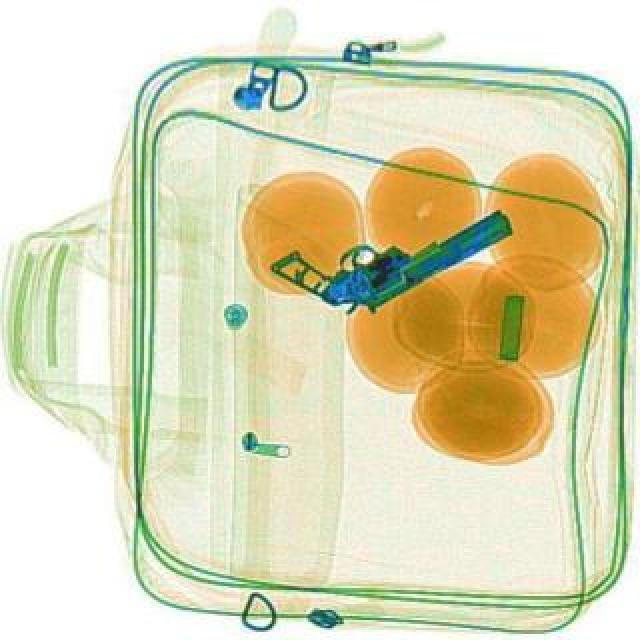gun: (266, 158, 520, 342)
